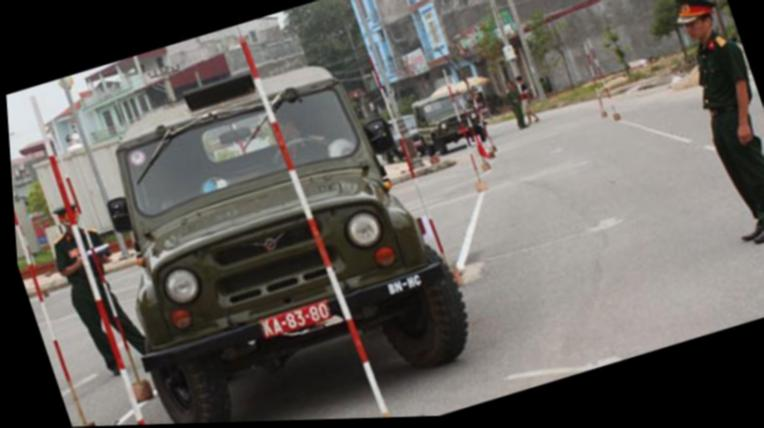License_Plate: (254, 298, 339, 349)
